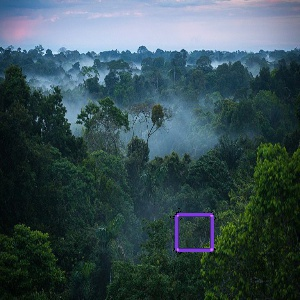square: (172, 210, 216, 254)
